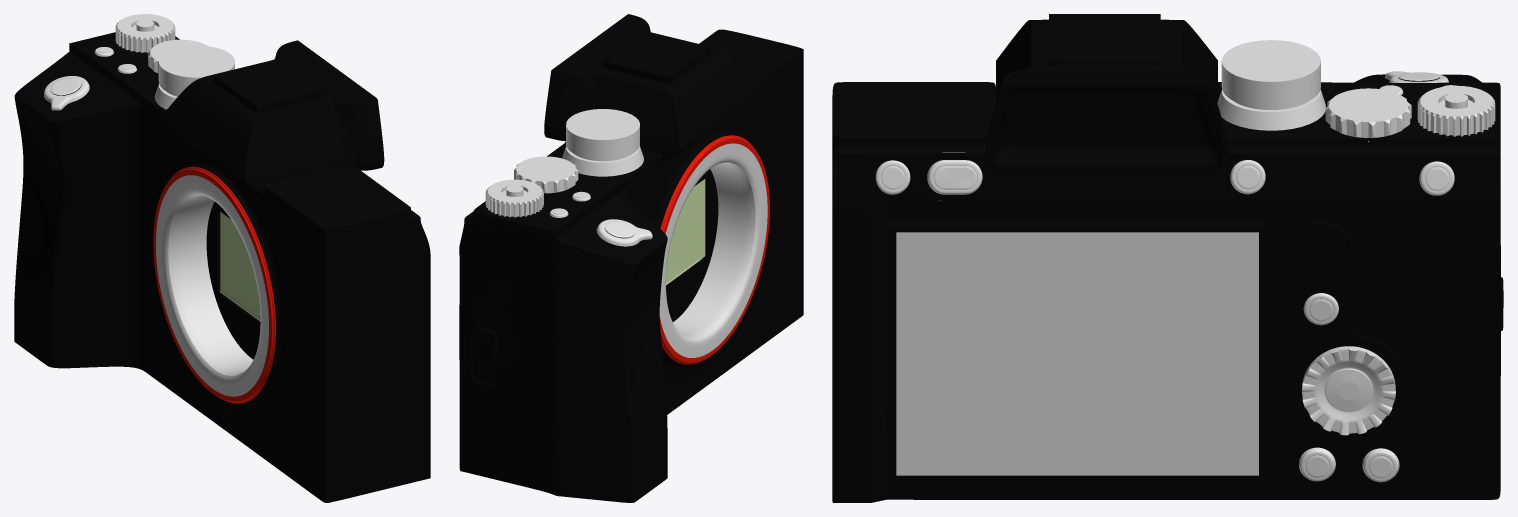
File: Remodel.glb
The picture shows the model from 3 angles, left to right: view 1: azimuth 30°, elevation 25°; view 2: azimuth 150°, elevation 25°; view 3: azimuth 270°, elevation 25°; orthographic projection. The views are drawn at different scales.
Visible parts, largest first — view 1: Cam.001, Display.001, Circle.002; view 2: Cam.001, Display.001, Circle.002; view 3: Cam.001, Display.001, Circle.002, Detail, Circle.005.
Part boxes in pixels (<box>): Cam.001: <box>69,32,430,502</box>; Display.001: <box>14,51,268,396</box>; Circle.002: <box>44,14,234,110</box>; Cam.001: <box>459,14,803,495</box>; Display.001: <box>555,143,767,502</box>; Circle.002: <box>485,109,652,246</box>; Cam.001: <box>832,14,1503,502</box>; Display.001: <box>889,74,1481,482</box>; Circle.002: <box>875,40,1495,482</box>; Detail: <box>1288,222,1407,441</box>; Circle.005: <box>927,152,982,201</box>.
Bounding box in the file's own units: 0.0829 × 0.1426 × 0.2009.
